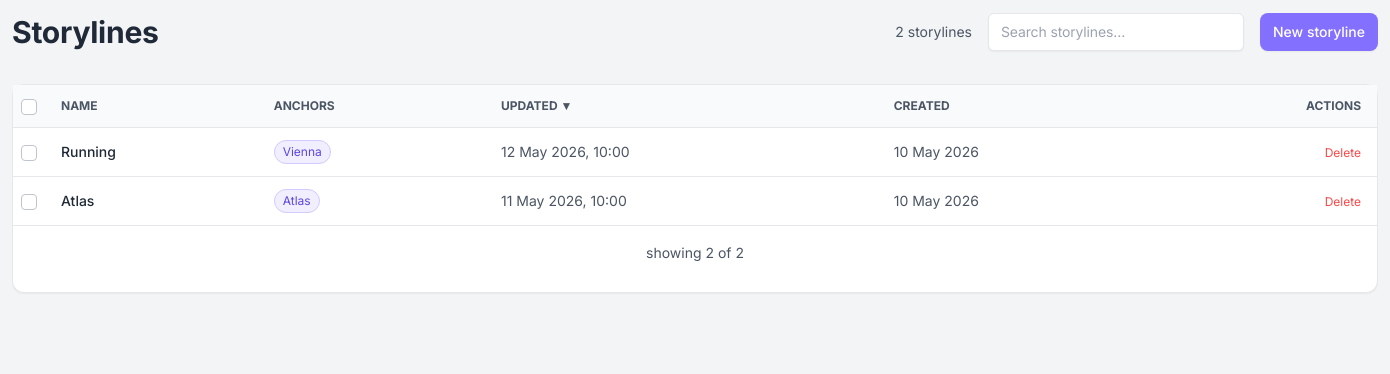
StorylineListView › bulk delete with mixed failure surfaces the partial-failure banner
Click the checkbox with test id "select-all-checkbox" at (29, 107), box x1=21 y1=99 x2=37 y2=115
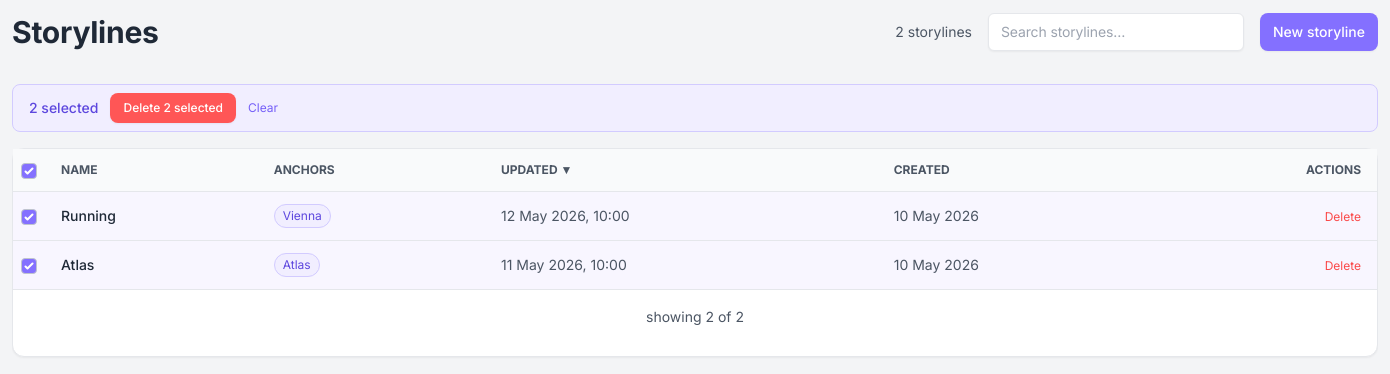
Click the button with test id "bulk-delete-button" at (173, 108), box x1=110 y1=93 x2=236 y2=123
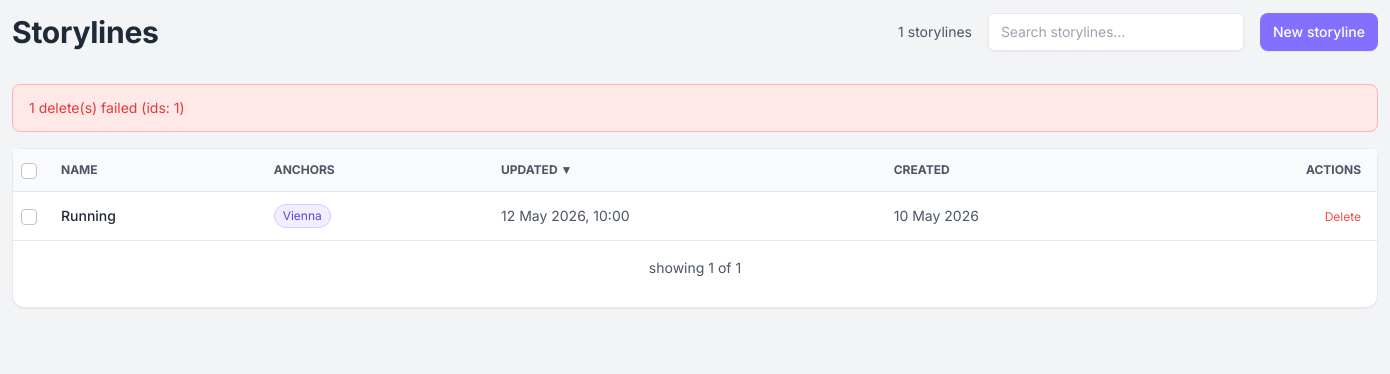
Expected: the text "1 delete(s) failed (ids: 1)" is shown, x1=12 y1=84 x2=1378 y2=132
